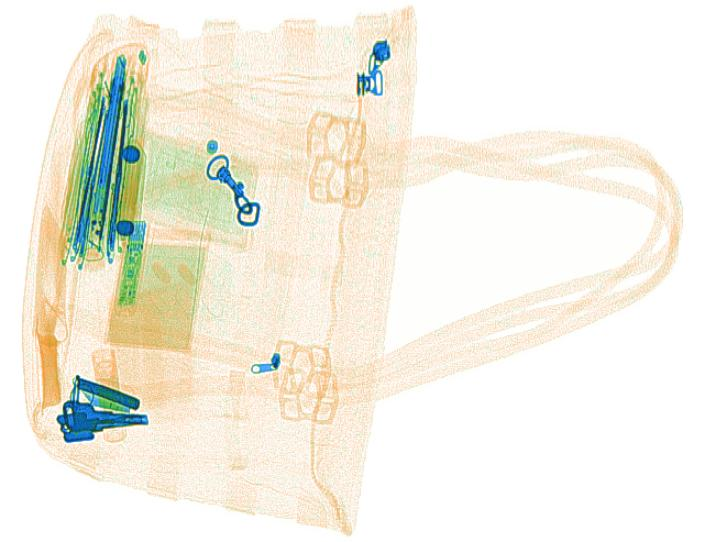USBFlashDisk: (114, 214, 147, 307)
